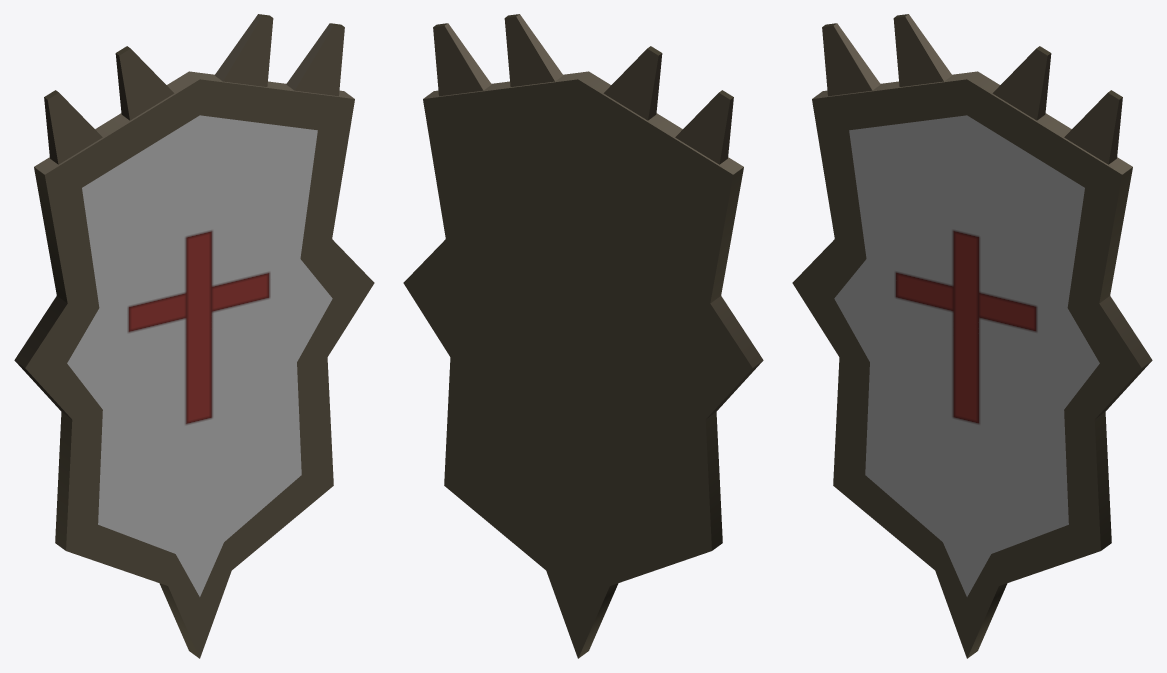
Rendered from SF_Wep_Undead_Shield_02.fbx.
3 views of the same model, side by side, from view 1: azimuth 30°, elevation 25°; view 2: azimuth 150°, elevation 25°; view 3: azimuth 330°, elevation 25° (orthographic).
Visible parts, largest first — view 1: SF_Wep_Undead_Shield_02; view 2: SF_Wep_Undead_Shield_02; view 3: SF_Wep_Undead_Shield_02.
Part boxes in pixels (box(x1,y1,x2,y2)): SF_Wep_Undead_Shield_02: box(14, 14, 374, 658); SF_Wep_Undead_Shield_02: box(403, 14, 763, 658); SF_Wep_Undead_Shield_02: box(792, 14, 1152, 658).
Bounding box in the file's own units: 1.07 × 1.82 × 0.0573.
